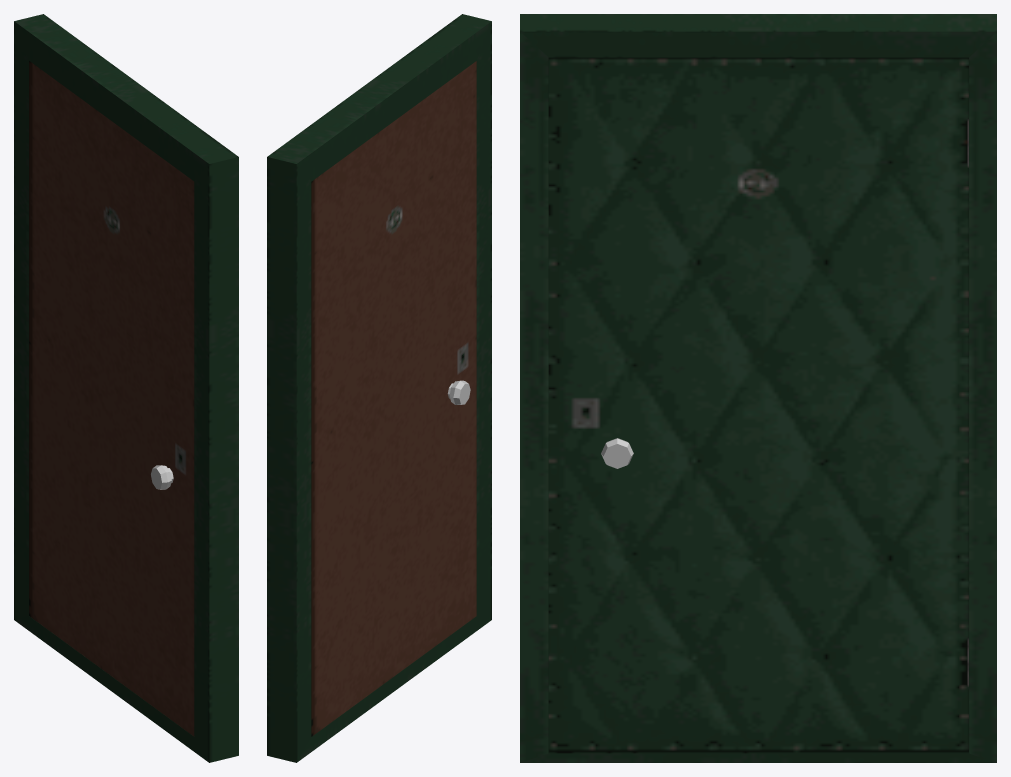
File: GreenDoor.fbx
The picture shows the model from 3 angles, left to right: view 1: azimuth 30°, elevation 25°; view 2: azimuth 150°, elevation 25°; view 3: azimuth 270°, elevation 25°; orthographic projection. The views are drawn at different scales.
Visible parts, largest first — view 1: Куб.577, GreenDoor; view 2: Куб.577, GreenDoor; view 3: Куб.577, GreenDoor.
Part boxes in pixels (bbox=[...]): Куб.577: bbox=[29, 61, 194, 736]; GreenDoor: bbox=[14, 14, 238, 762]; Куб.577: bbox=[311, 61, 476, 736]; GreenDoor: bbox=[267, 14, 491, 762]; Куб.577: bbox=[548, 57, 968, 753]; GreenDoor: bbox=[520, 14, 996, 762].
Bounding box in the file's own units: 28.75 × 286 × 169.
